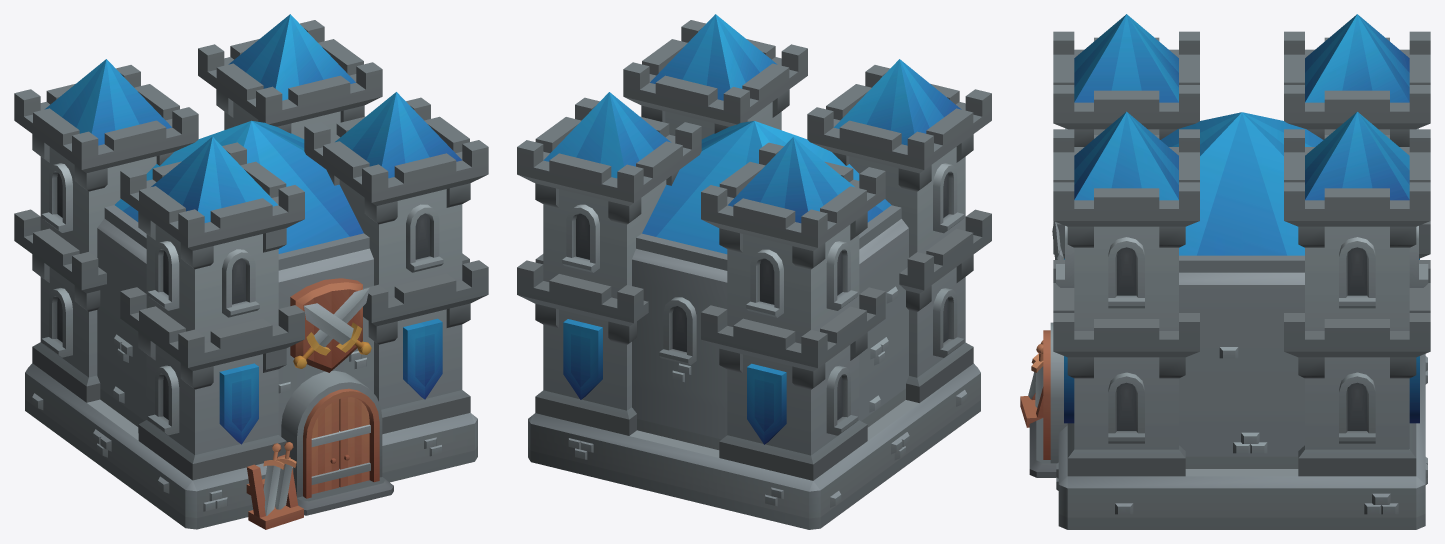
Rendered from barracks.glb.
3 renders of one model, left to right at view 1: azimuth 30°, elevation 25°; view 2: azimuth 150°, elevation 25°; view 3: azimuth 270°, elevation 25°, orthographic. The views are drawn at different scales.
Parts seen in each view (by area): view 1: building_barracks_blue; view 2: building_barracks_blue; view 3: building_barracks_blue.
Part boxes in pixels (bbox=[...]): building_barracks_blue: bbox=[14, 14, 488, 529]; building_barracks_blue: bbox=[517, 14, 991, 529]; building_barracks_blue: bbox=[1020, 14, 1430, 529].
Size of the model in its own units: 1.44 by 1.64 by 1.57.
1 material, 1 textured.
